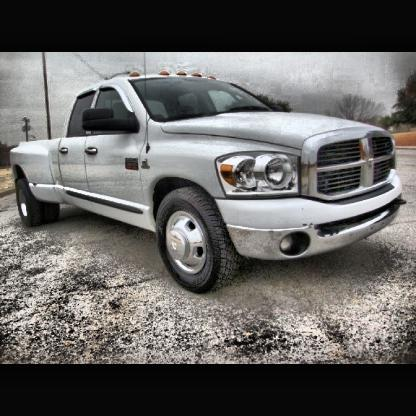Dodge Ram Pickup 3500 Quad Cab 2009: (8, 69, 410, 296)
